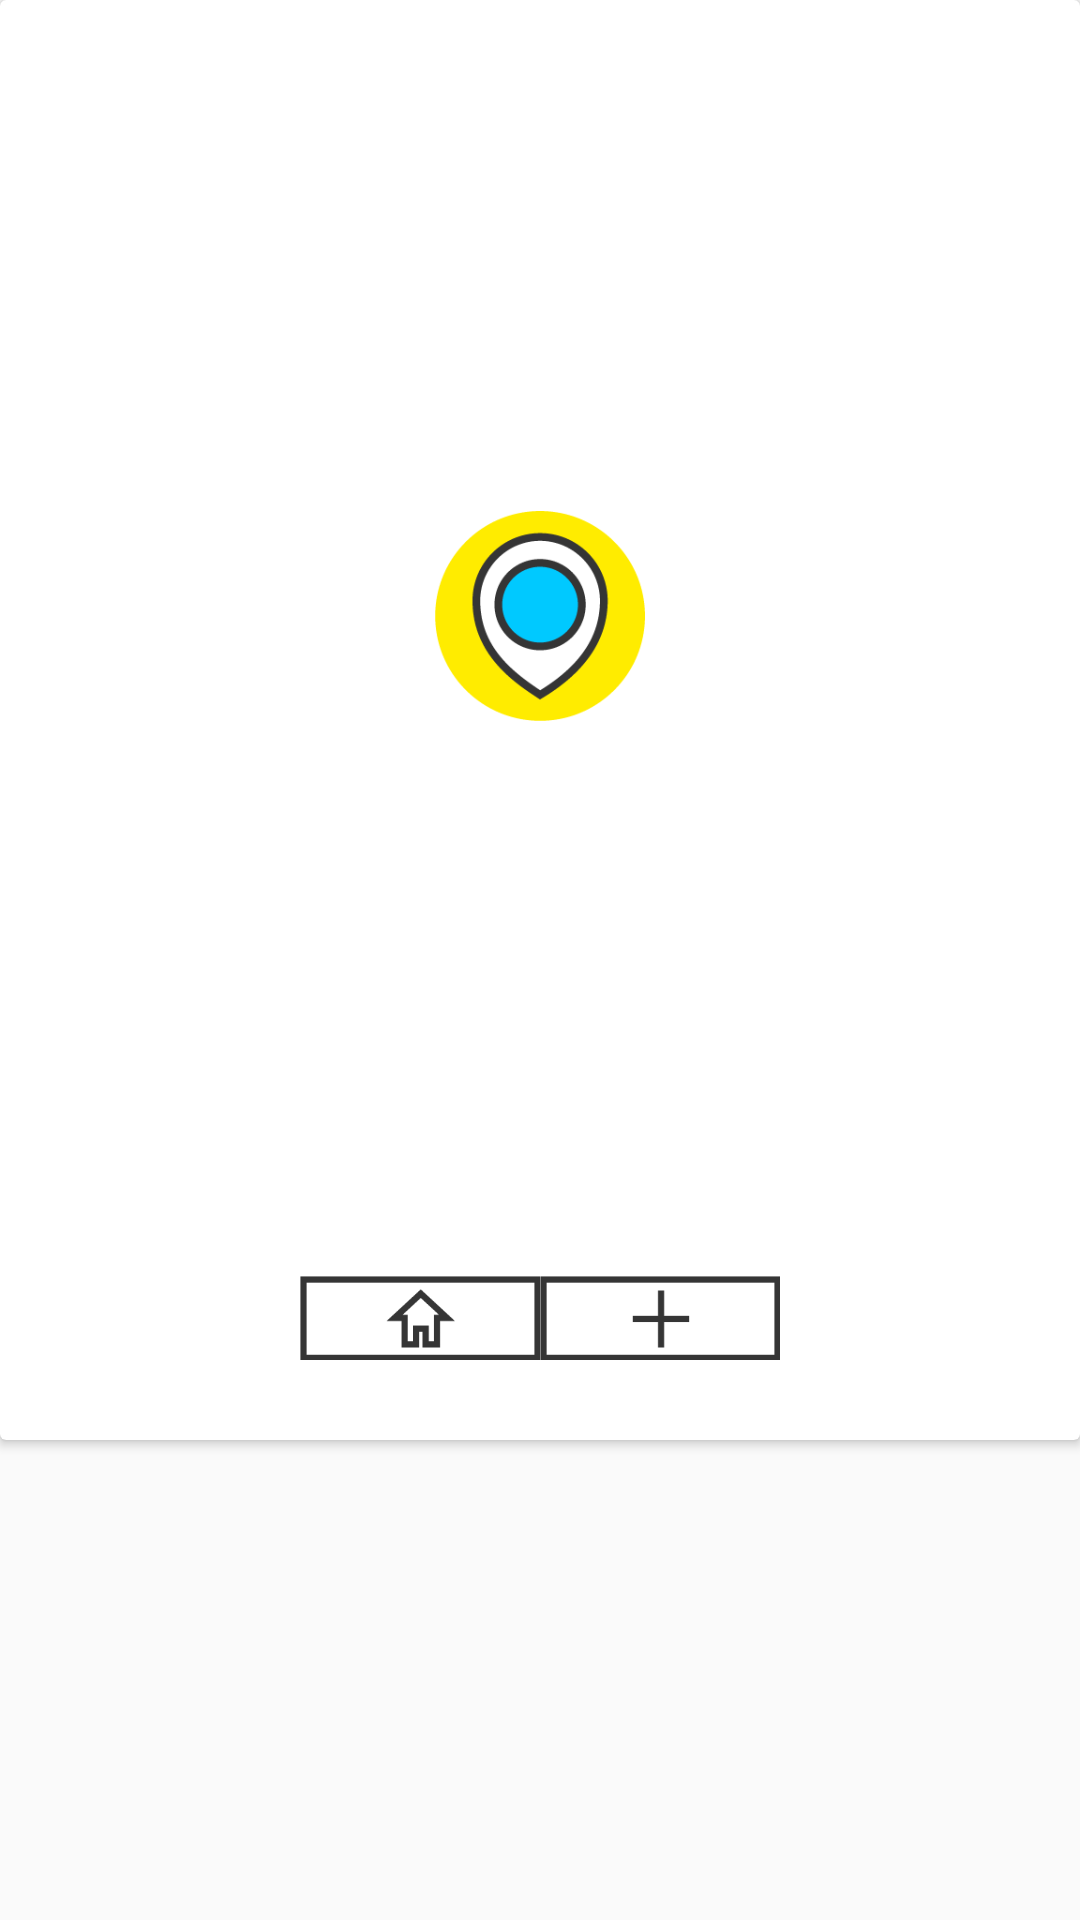

Screen size 1080px x 1920px. Icon name, then its box in pixels as [left=x1, top=y1, right=x2, bottom=y2]:
add location: [left=540, top=1276, right=780, bottom=1360]
homepage: [left=300, top=1276, right=540, bottom=1360]
